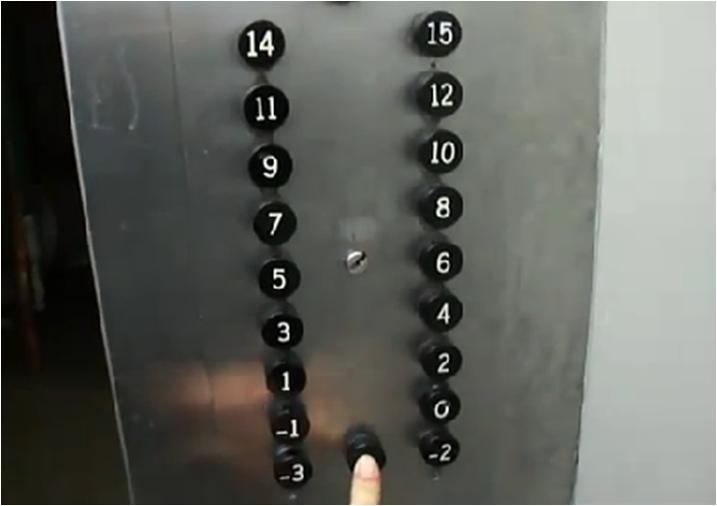-1: (265, 400, 311, 445)
-2: (418, 429, 461, 469)
-3: (271, 447, 314, 489)
0: (418, 386, 463, 426)
1: (262, 354, 308, 398)
10: (412, 127, 464, 175)
11: (240, 82, 291, 133)
12: (408, 70, 464, 121)
14: (236, 17, 287, 72)
15: (411, 10, 463, 59)
2: (415, 336, 463, 381)
3: (260, 304, 304, 350)
4: (417, 287, 464, 331)
5: (257, 256, 301, 301)
6: (418, 239, 464, 283)
7: (251, 200, 297, 246)
8: (418, 183, 464, 230)
9: (247, 141, 294, 189)
keyhole: (343, 249, 374, 276)
